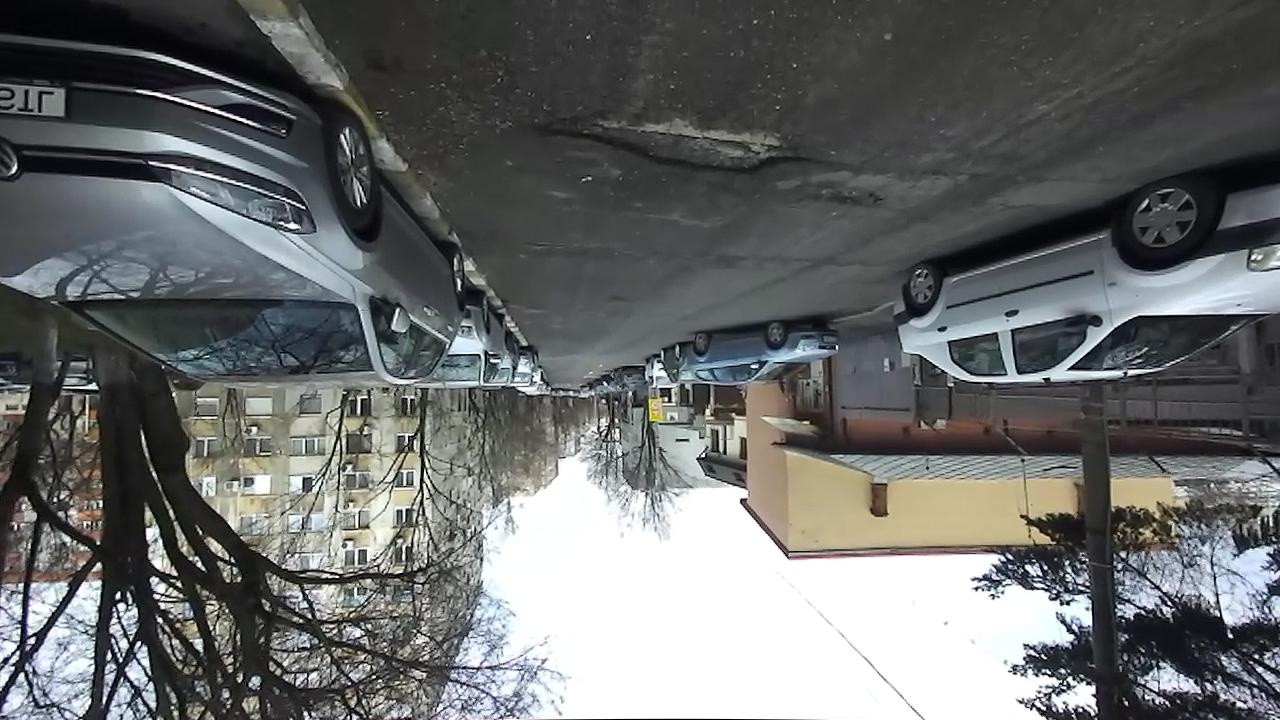pothole: (528, 107, 820, 177), (799, 182, 891, 213)
